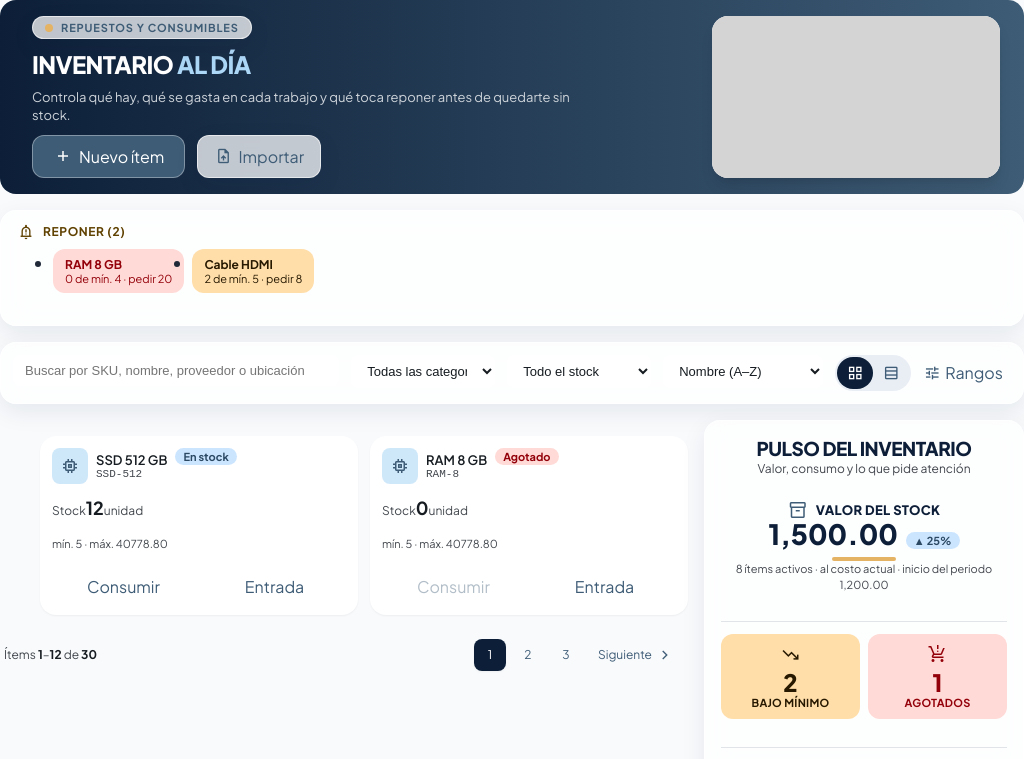
Test: InventoryComponent › range filters › keeps the panel closed until asked, so the filter bar stays slim
The image size is (1024, 759).
Click the button "Rangos": (963, 373) [915,357,1011,389]
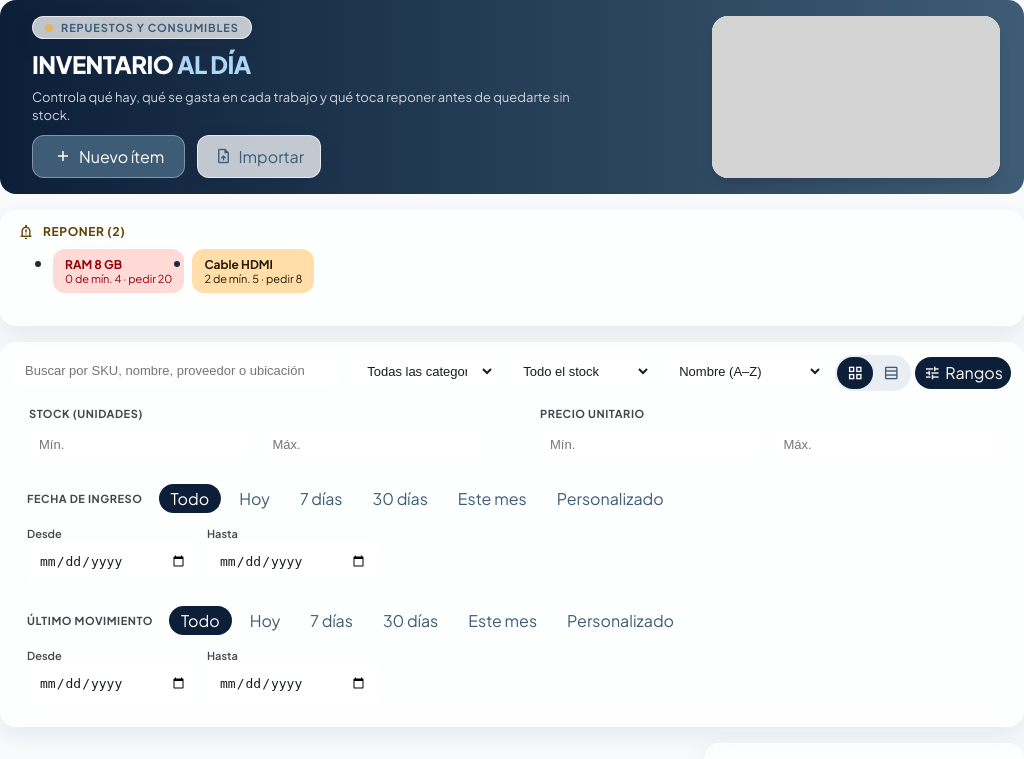
Check: the element with id "inv-ranges" is shown, box [13,399,1011,714]
